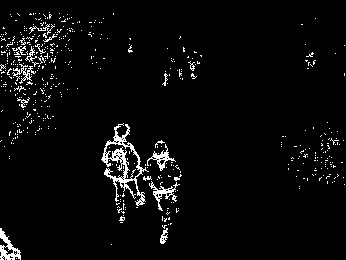person: (100, 119, 147, 225), (149, 133, 186, 248)
